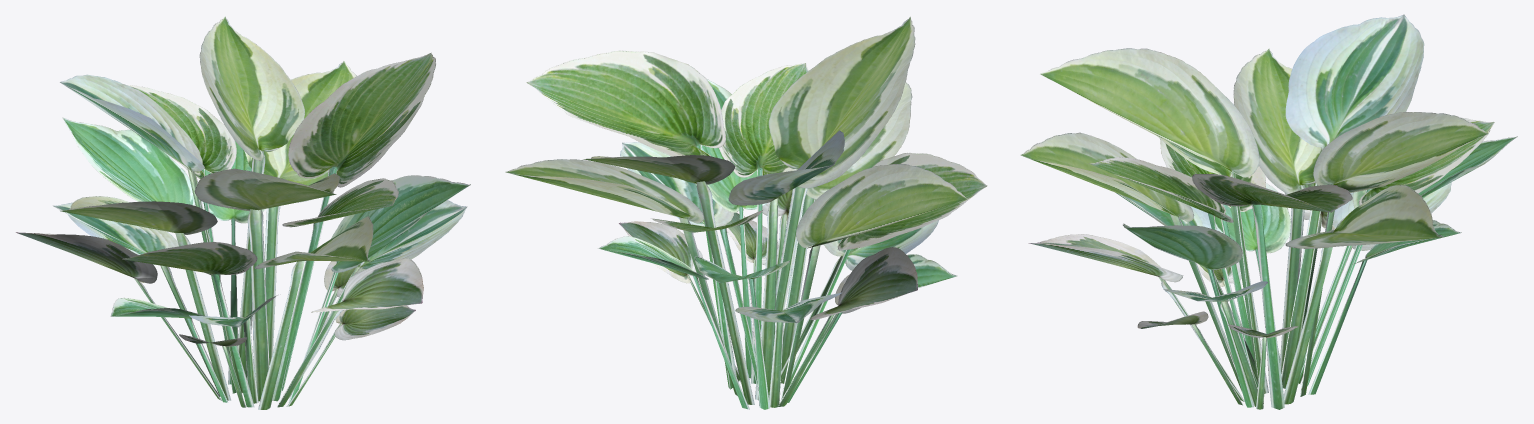
File: plant_small_wg_00H2_wild.fbx
The picture shows the model from 3 angles, left to right: view 1: azimuth 30°, elevation 25°; view 2: azimuth 150°, elevation 25°; view 3: azimuth 270°, elevation 25°; orthographic projection. The views are drawn at different scales.
Visible parts, largest first — view 1: plant_small_wg_00H2_wild; view 2: plant_small_wg_00H2_wild; view 3: plant_small_wg_00H2_wild.
Part boxes in pixels (bbox=[...]): plant_small_wg_00H2_wild: bbox=[16, 16, 470, 409]; plant_small_wg_00H2_wild: bbox=[505, 16, 987, 409]; plant_small_wg_00H2_wild: bbox=[1020, 14, 1517, 409].
Bounding box in the file's own units: 64.71 × 46.81 × 66.98.
